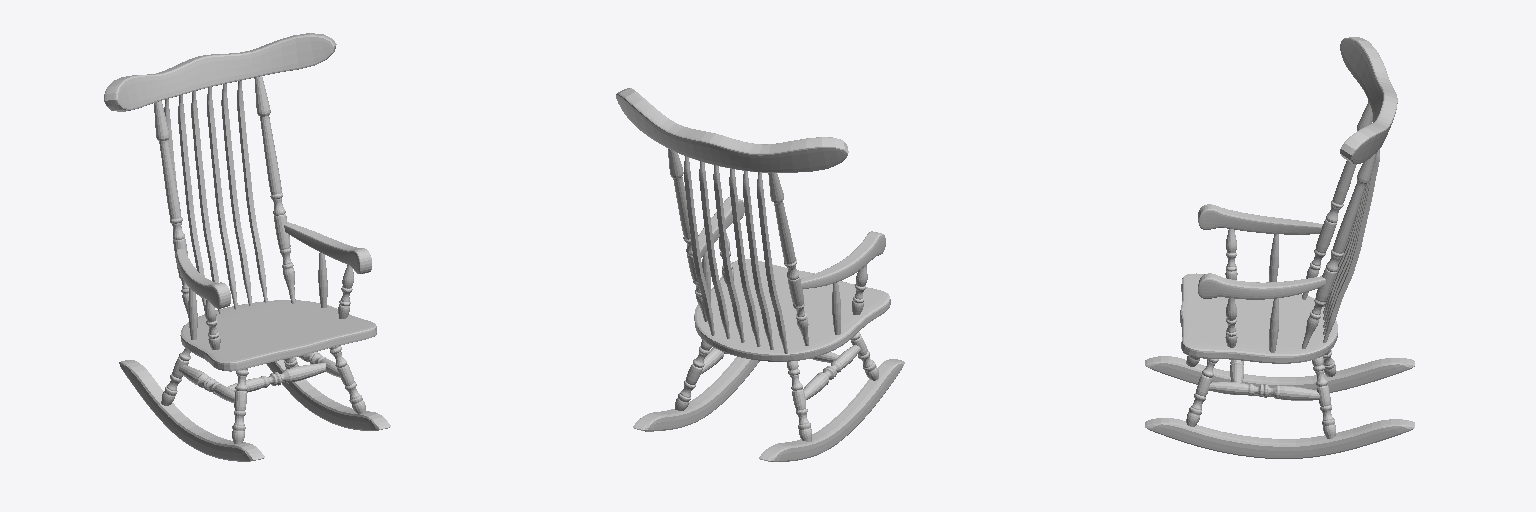
Rendered from stolica.obj.
The picture shows the model from 3 angles: view 1: azimuth 30°, elevation 25°; view 2: azimuth 150°, elevation 25°; view 3: azimuth 270°, elevation 25°; orthographic projection.
Visible parts, largest first — view 1: Vert.002; view 2: Vert.002; view 3: Vert.002.
Part boxes in pixels (x1,y1,x2,y2): Vert.002: (104,33,390,461); Vert.002: (616,88,904,461); Vert.002: (1145,37,1414,458).
Size of the model in its own units: 0.8934 by 1.25 by 0.9027.